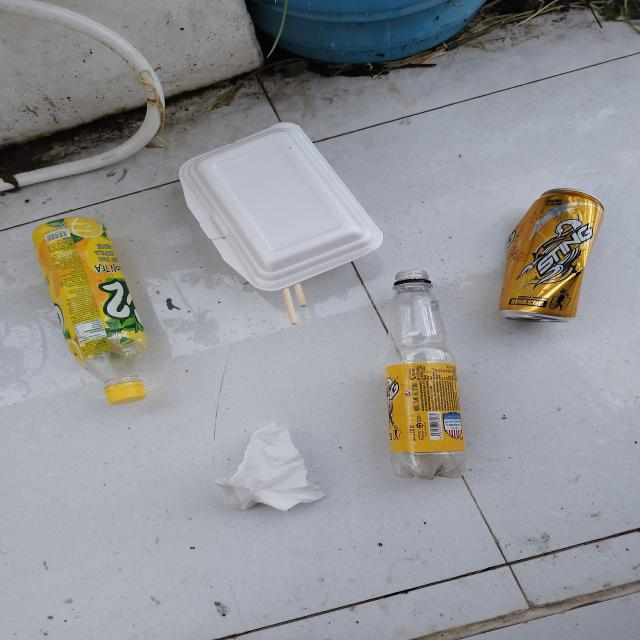bottle: (32, 218, 150, 406), (385, 268, 467, 480)
can: (498, 188, 606, 323)
foam box: (178, 123, 386, 292)
napkin: (211, 422, 332, 512)
